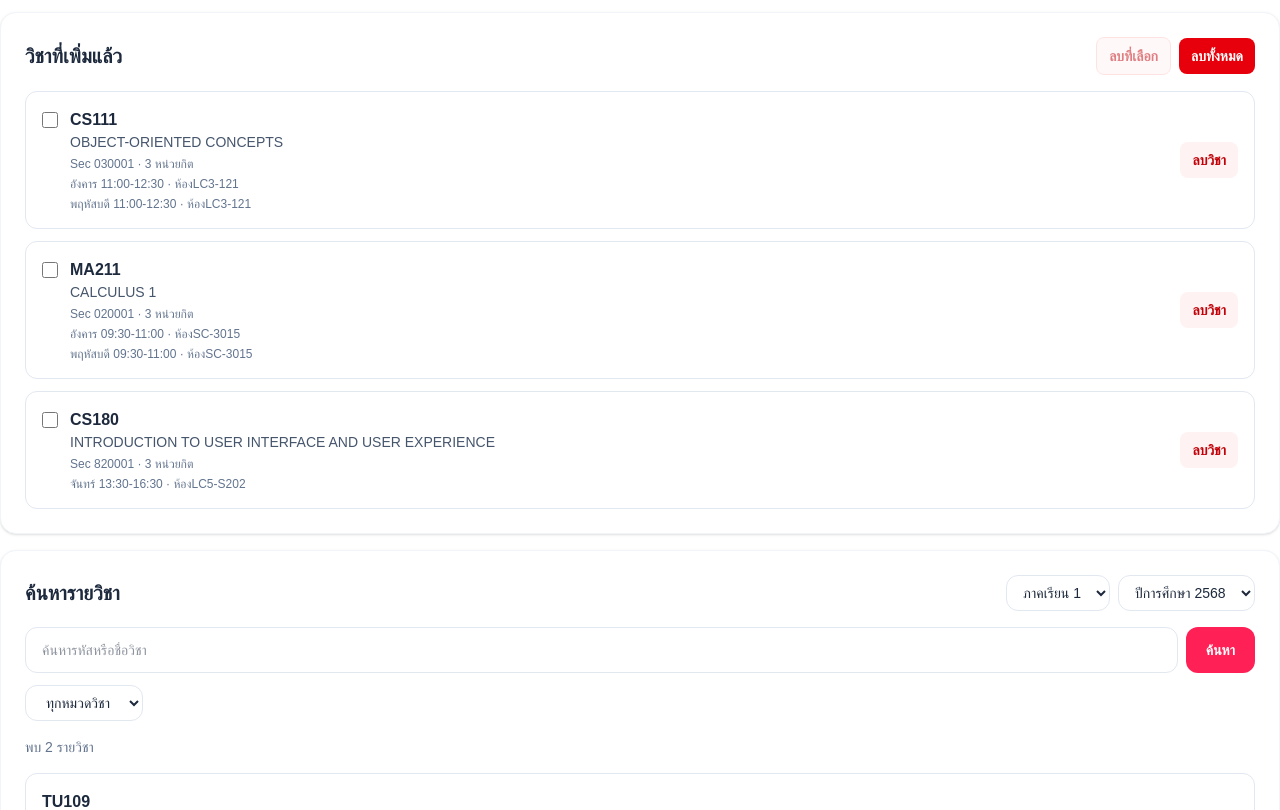
it: US2-T10 ต่อปุ่มลบ ↔ API ↔ DB ตาม Sequence Diagram ของ US2-T06 › ผล GET ที่โหลดใหม่หลัง 404 ตอบช้ากว่าการลบครั้งถัดไป ไม่ทำให้วิชาที่ลบแล้วกลับมา
The image size is (1280, 810).
(page scrolled)
Click the 3rd button "ลบวิชา".
click(1209, 450)  # box [1180, 432, 1238, 468]
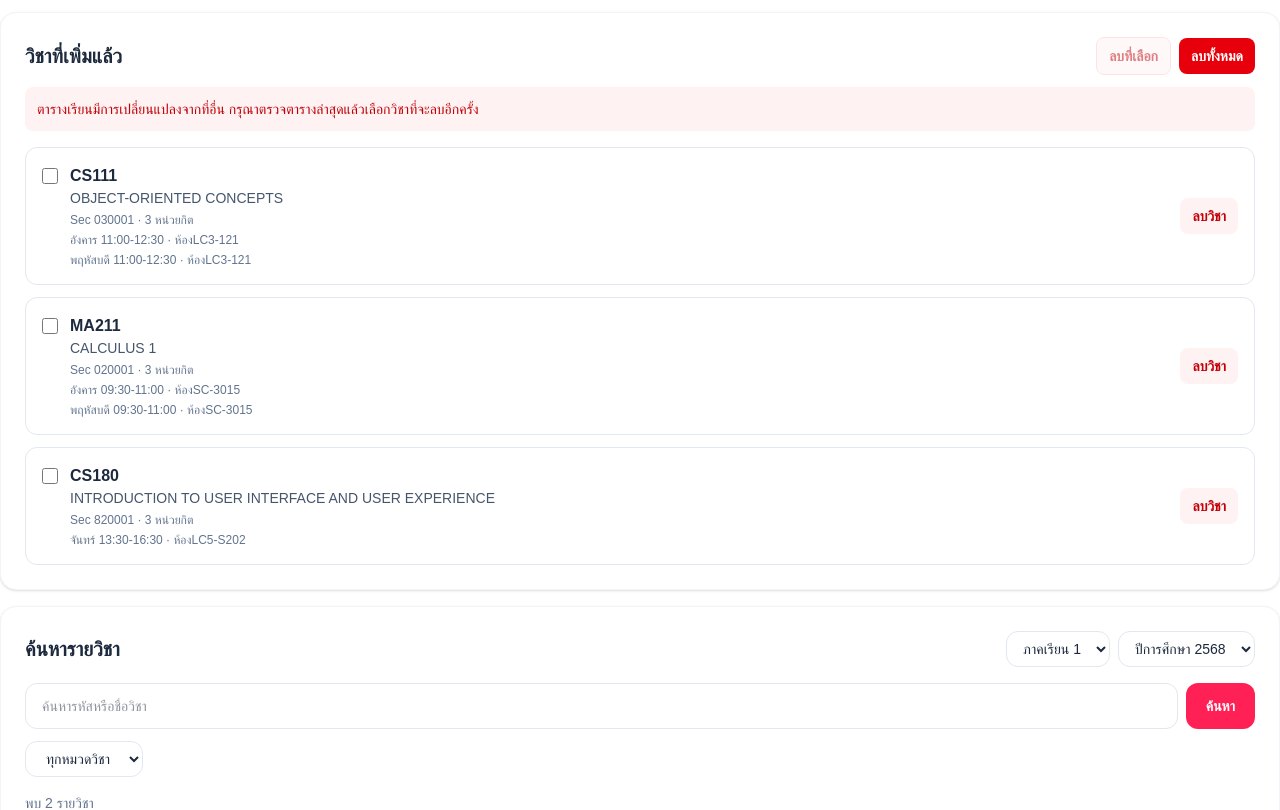
Click the button "ลบวิชา" in the row of "CALCULUS 1".
click(1209, 366)  # box [1180, 348, 1238, 384]
(page scrolled)
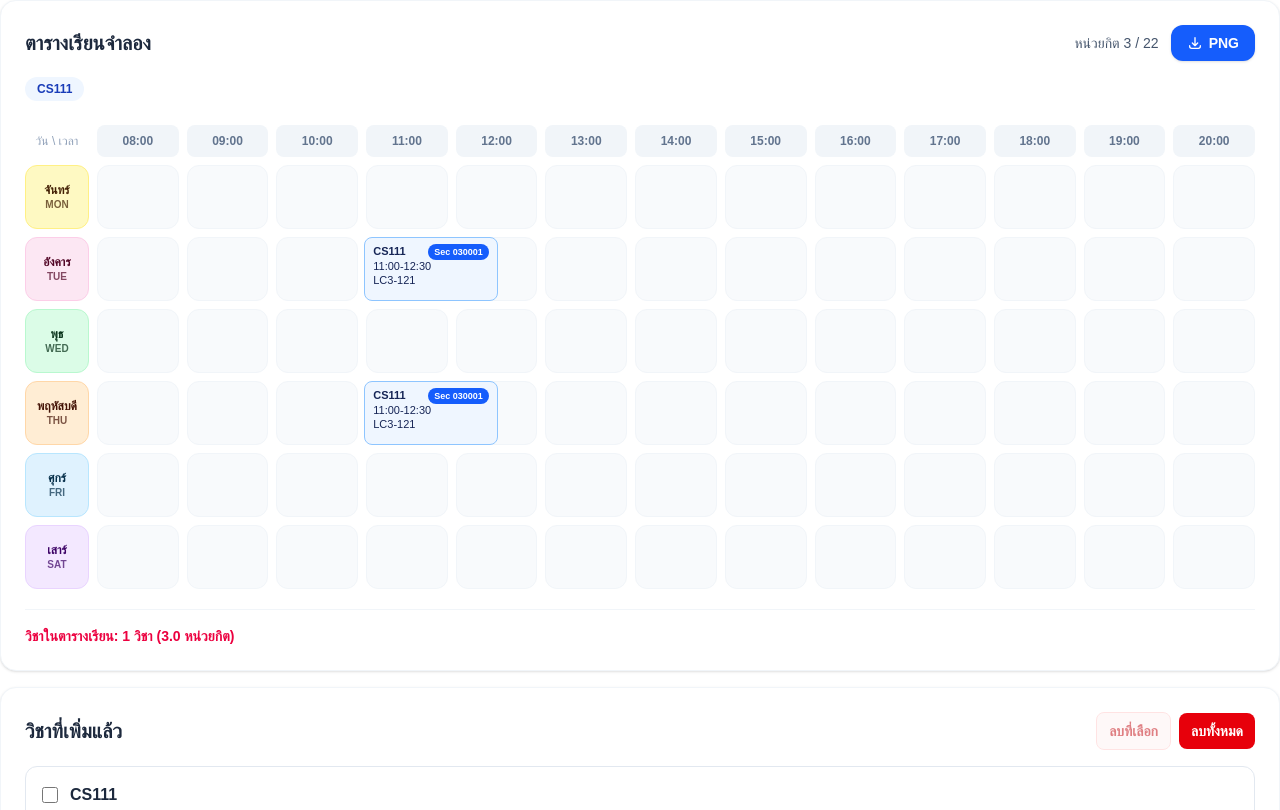
Check: the text "หน่วยกิต 3 / 22" is shown, box [1074, 35, 1159, 51]
Check: the text "MA211" is gone
